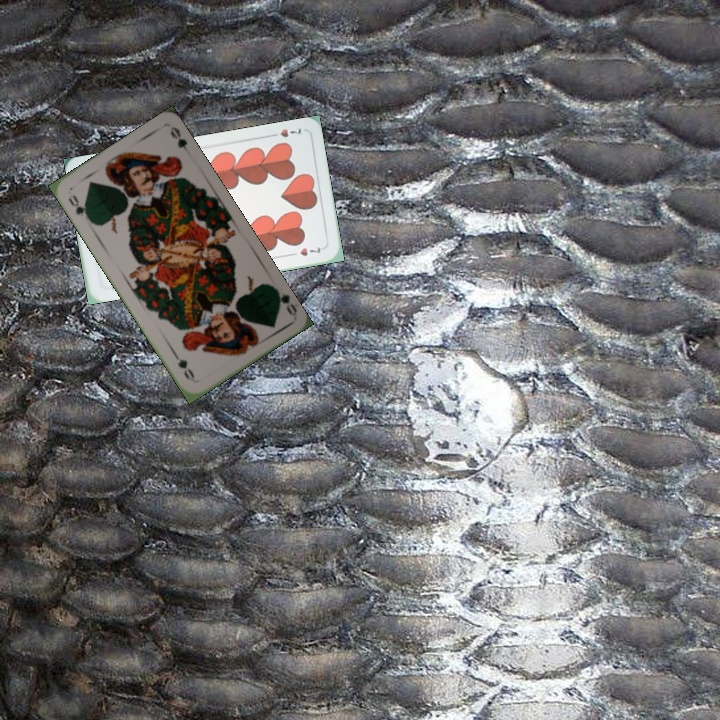GO: (269, 283, 300, 318), (64, 191, 93, 224)
H7: (265, 124, 304, 140)
